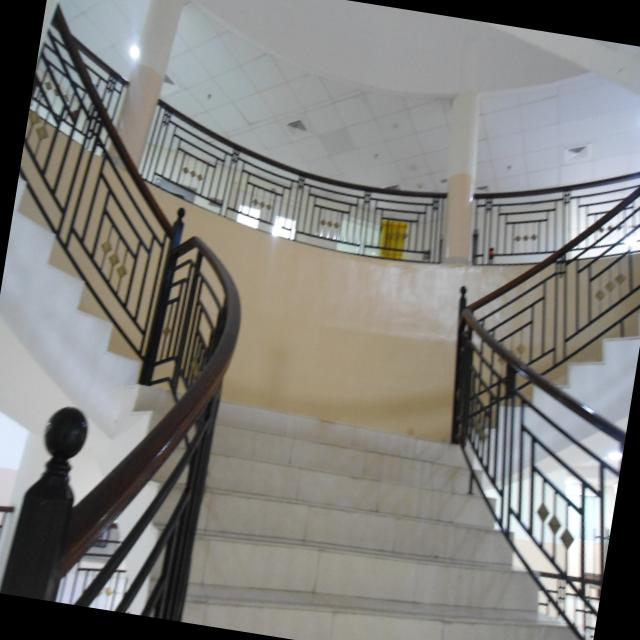dustbin: (374, 203, 414, 267)
pillar: (117, 0, 186, 165), (441, 93, 480, 266)
railing: (21, 171, 262, 624), (399, 275, 640, 640), (0, 0, 206, 373), (437, 132, 640, 465), (126, 88, 463, 278), (461, 134, 640, 292), (24, 0, 144, 161), (0, 491, 131, 611)
stairs: (170, 367, 626, 640)
